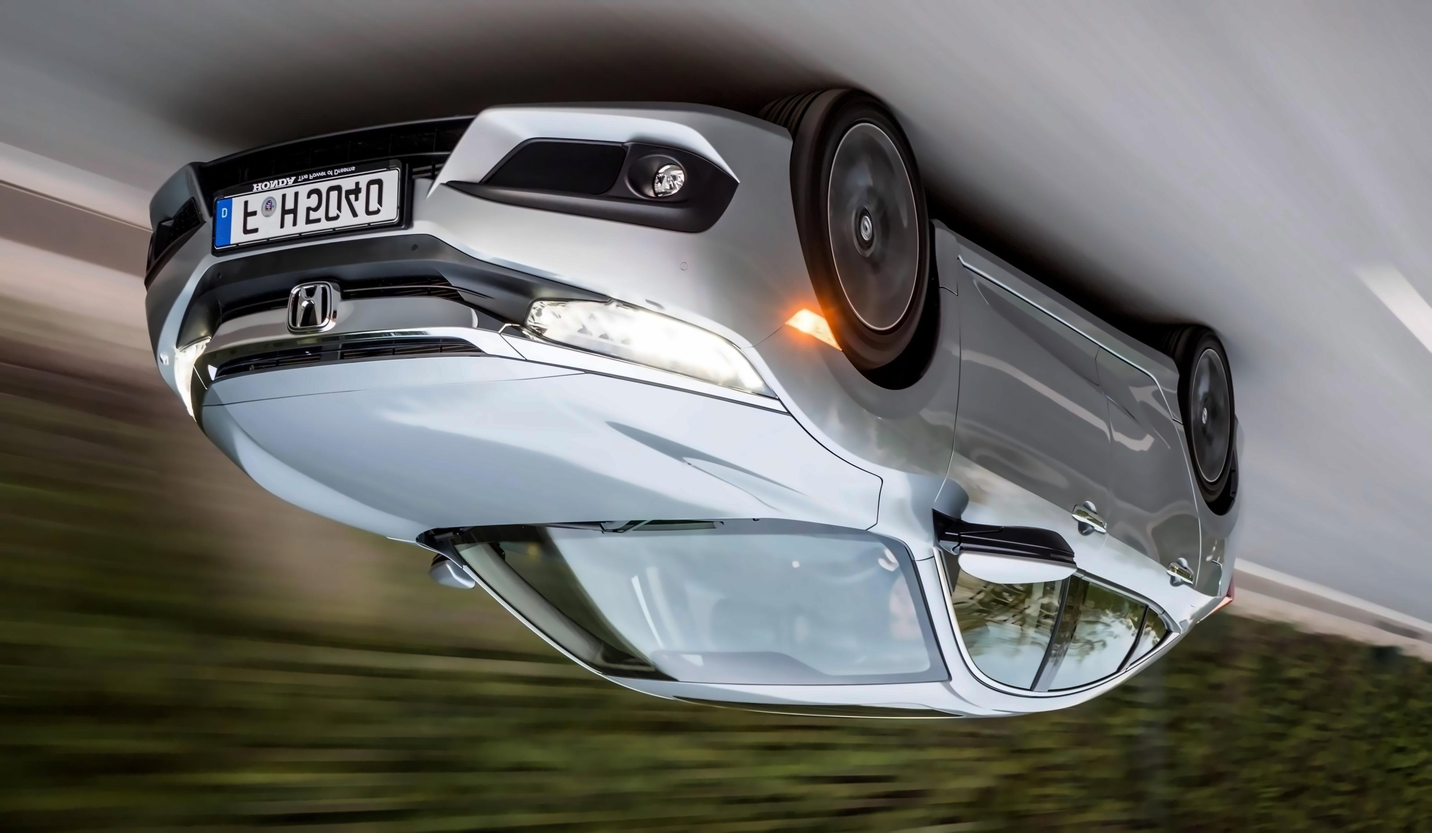Car hood: (191, 347, 885, 542)
Driver-s door - -F-R-: (942, 237, 1107, 713)
Fender - -F-R-: (762, 228, 971, 560)
Fender - -R-R-: (1149, 345, 1231, 575)
Front bumper: (138, 94, 830, 342)
Headlight - -L-: (164, 327, 226, 419)
Headlight - -R-: (521, 277, 789, 409)
Passenger-s door - -R-R-: (1071, 347, 1208, 703)
Rear bumper: (1226, 417, 1254, 577)
Rear light - -R-: (1208, 567, 1244, 633)
Side bumper - -R-: (925, 208, 1201, 417)
Side mirror - -L-: (413, 530, 488, 597)
Side mirror - -R-: (936, 507, 1082, 593)
